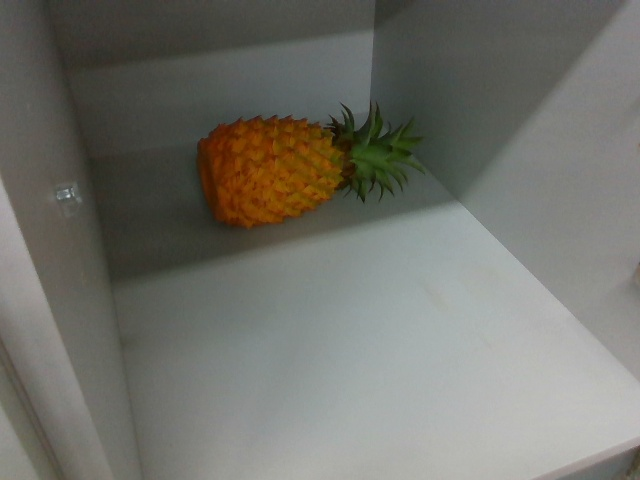pineapple: (193, 102, 424, 236)
